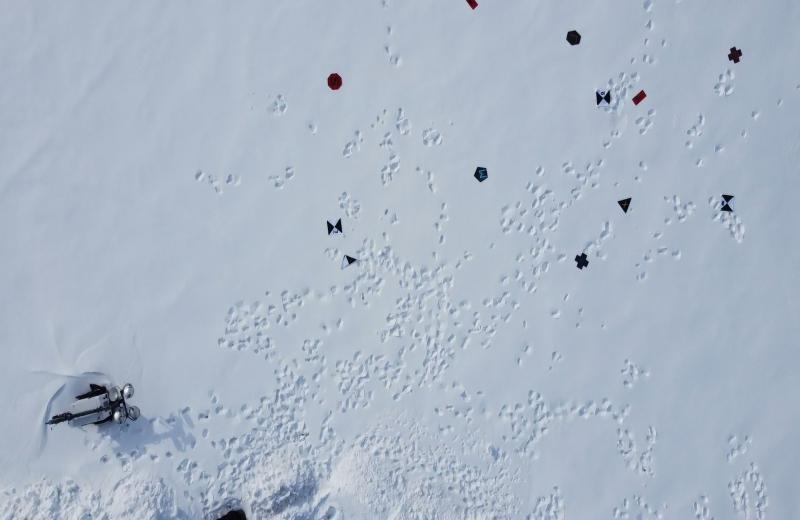Cross: (727, 44, 743, 65), (573, 252, 591, 270)
Hexagon: (565, 29, 582, 48)
Octagon: (326, 72, 344, 91)
Pentagon: (473, 165, 488, 184)
Rectangle: (631, 88, 647, 107), (466, 0, 479, 11)
Triangle: (617, 197, 634, 214)
